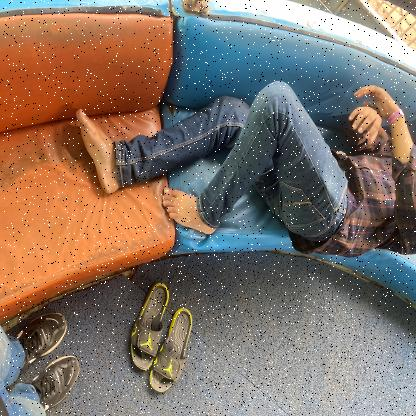hand: (345, 80, 416, 196)
leg: (57, 86, 224, 195), (154, 131, 270, 237)
